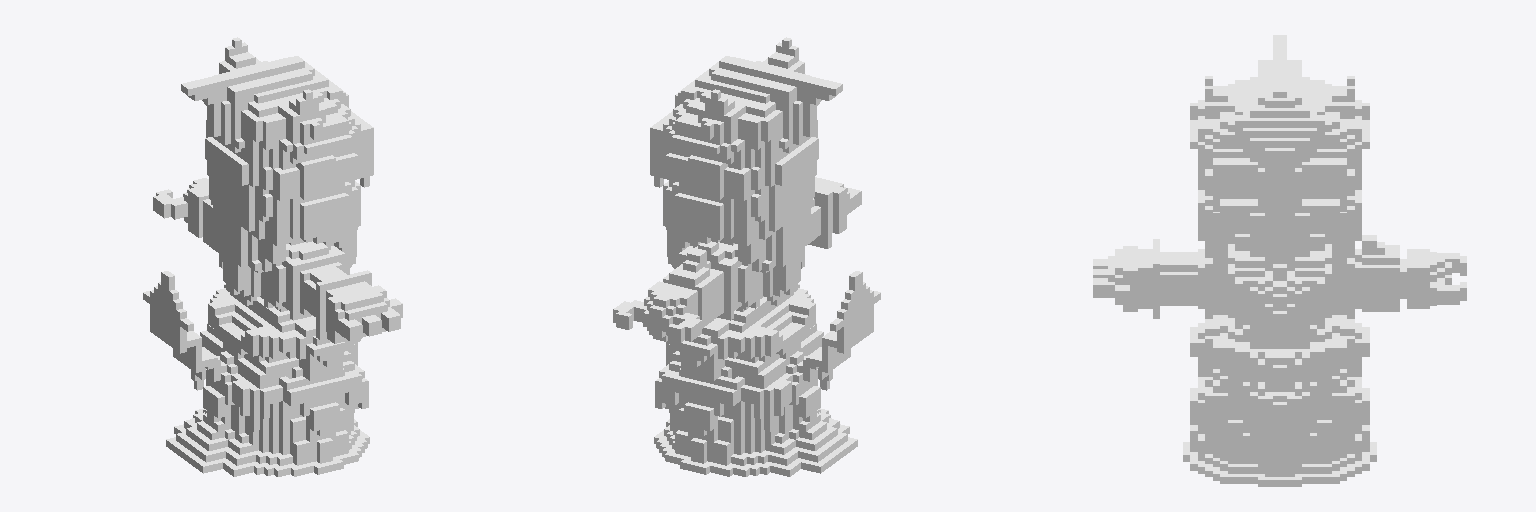
Rendered from Disfraz1.obj.
3 renders of one model, left to right at view 1: azimuth 30°, elevation 25°; view 2: azimuth 150°, elevation 25°; view 3: azimuth 270°, elevation 25°, orthographic.
Visible parts, largest first — view 1: object 1; view 2: object 1; view 3: object 1.
Part boxes in pixels (bbox=[...]): object 1: bbox=[143, 37, 402, 476]; object 1: bbox=[613, 37, 880, 476]; object 1: bbox=[1093, 35, 1466, 486].
Bounding box in the file's own units: 2.8 × 5.5 × 5.